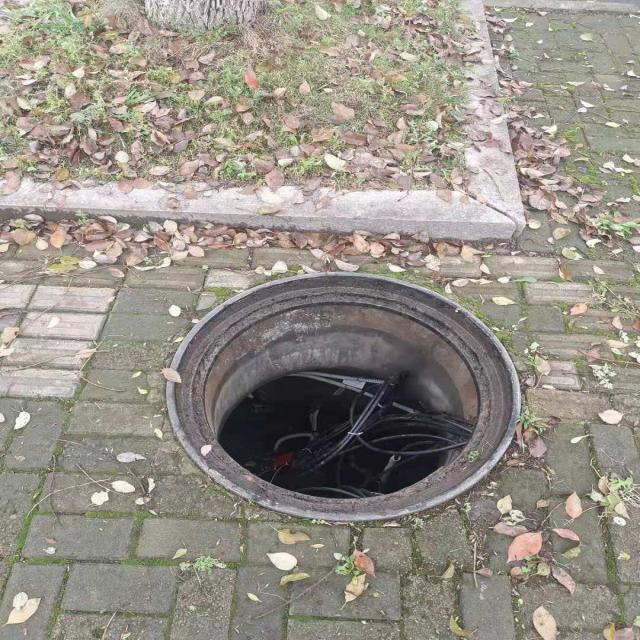Faulty: (164, 270, 516, 522)
